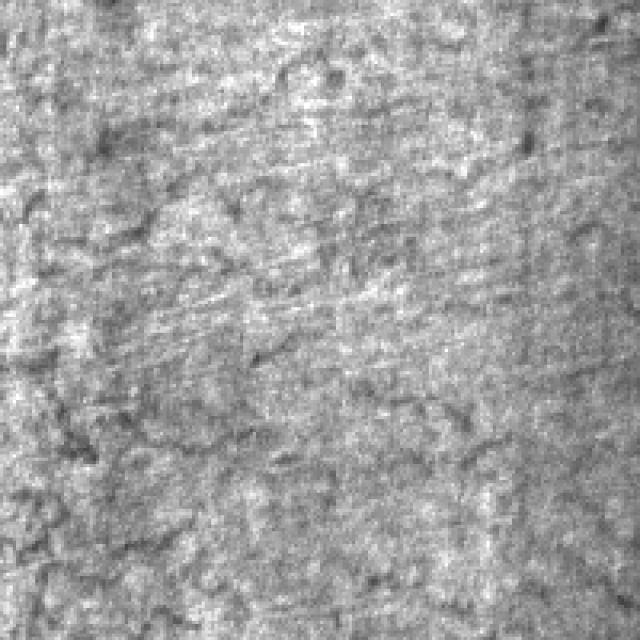crazing: (0, 26, 525, 397), (9, 378, 550, 636)
